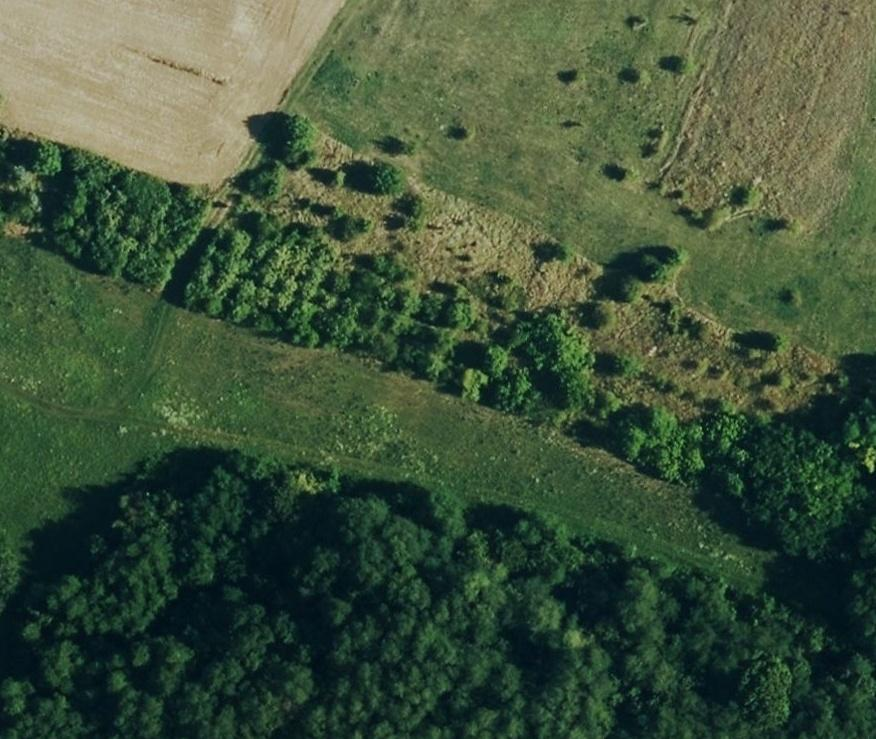field: (0, 0, 876, 416), (0, 234, 777, 595)
forest: (0, 133, 876, 737)
